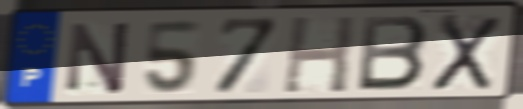5: (141, 17, 199, 96)
7: (215, 15, 281, 97)
B: (355, 14, 431, 93)
H: (279, 14, 359, 96)
N: (64, 18, 134, 96)
X: (427, 12, 504, 93)
